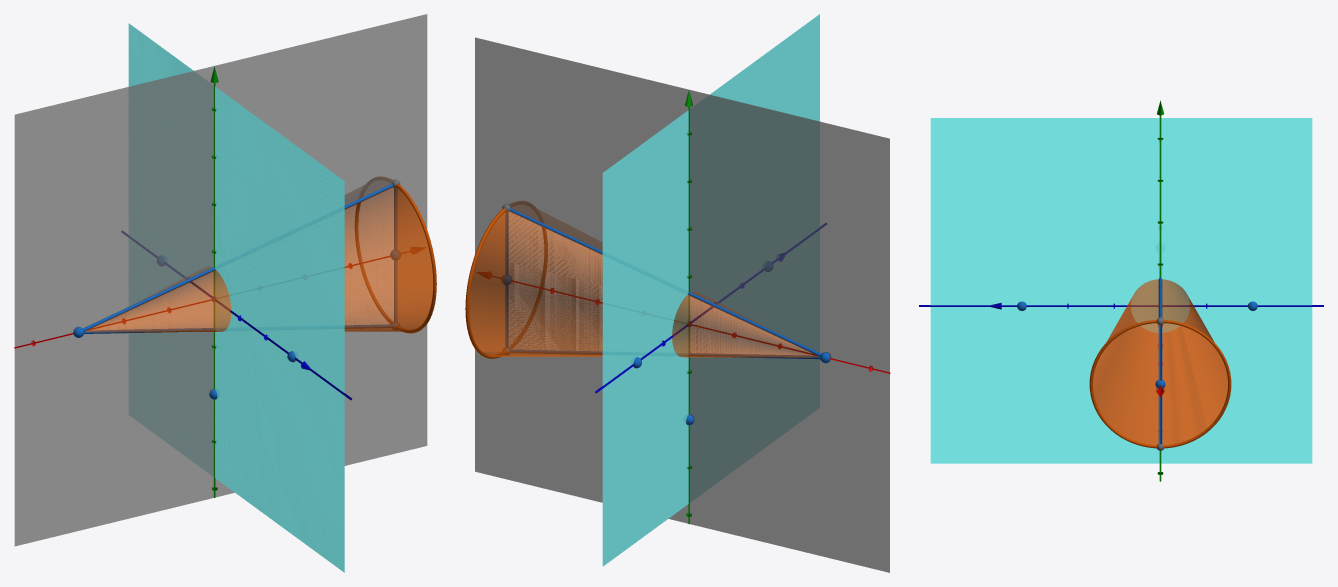
Rendered from geogebra-export.obj.
3 renders of one model, left to right at view 1: azimuth 30°, elevation 25°; view 2: azimuth 150°, elevation 25°; view 3: azimuth 270°, elevation 25°, orthographic. The views are drawn at different scales.
Parts seen in each view (by area): view 1: obj29, obj30, obj18, obj19, obj24, obj25, obj20, obj10, obj11, obj27, obj12, obj15; view 2: obj29, obj30, obj18, obj19, obj24, obj25, obj20, obj10, obj11, obj27, obj12, obj21 (+2 smaller); view 3: obj18, obj19, obj20, obj22, obj23, obj24, obj25, obj21, obj10, obj15, obj27, obj14.
Boxes of the visible parts, bbox=[...] form: obj29: bbox=[14, 14, 427, 546]; obj30: bbox=[14, 14, 427, 545]; obj18: bbox=[128, 23, 344, 572]; obj19: bbox=[129, 24, 344, 571]; obj24: bbox=[85, 186, 432, 332]; obj25: bbox=[85, 186, 432, 332]; obj20: bbox=[129, 32, 343, 568]; obj10: bbox=[355, 176, 436, 333]; obj11: bbox=[83, 184, 393, 331]; obj27: bbox=[211, 66, 218, 497]; obj12: bbox=[84, 324, 392, 333]; obj15: bbox=[121, 231, 351, 400]; obj29: bbox=[475, 37, 889, 572]; obj30: bbox=[475, 38, 889, 572]; obj18: bbox=[602, 14, 819, 566]; obj19: bbox=[602, 14, 819, 565]; obj24: bbox=[469, 211, 818, 357]; obj25: bbox=[469, 211, 818, 357]; obj20: bbox=[603, 16, 819, 562]; obj10: bbox=[465, 201, 547, 358]; obj11: bbox=[509, 208, 821, 356]; obj27: bbox=[685, 90, 692, 523]; obj12: bbox=[509, 350, 820, 359]; obj21: bbox=[604, 28, 805, 555]; obj18: bbox=[930, 118, 1312, 463]; obj19: bbox=[930, 118, 1312, 463]; obj20: bbox=[931, 118, 1311, 462]; obj22: bbox=[1093, 323, 1227, 444]; obj23: bbox=[1093, 323, 1227, 444]; obj24: bbox=[1106, 279, 1214, 342]; obj25: bbox=[1106, 279, 1214, 342]; obj21: bbox=[932, 120, 1311, 462]; obj10: bbox=[1089, 320, 1231, 448]; obj15: bbox=[919, 305, 1323, 306]; obj27: bbox=[1156, 100, 1164, 481]; obj14: bbox=[1158, 325, 1162, 444].
Bounding box in the file's own units: 18.22 × 18.22 × 17.53.
